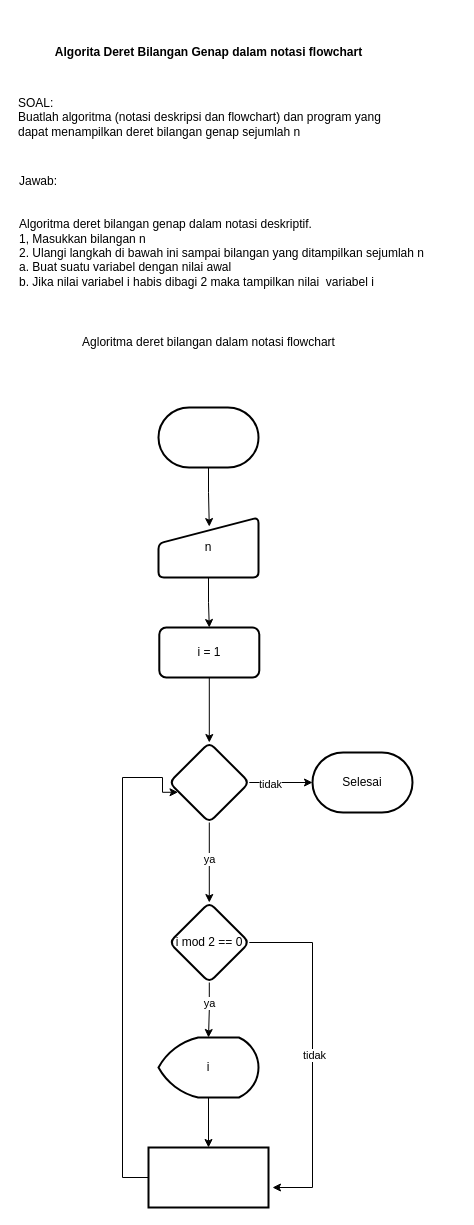
Some shapes in this 474 by 1225 pixel diagram are drawn without their labels. The shapes that lost their labels are listed below. From the top down, each one's centre as x and y in pixels, then its label:
At (208,437): "Mulai".
At (209,782): "i <= 2*n".
At (208,1177): "i = i + 1".
